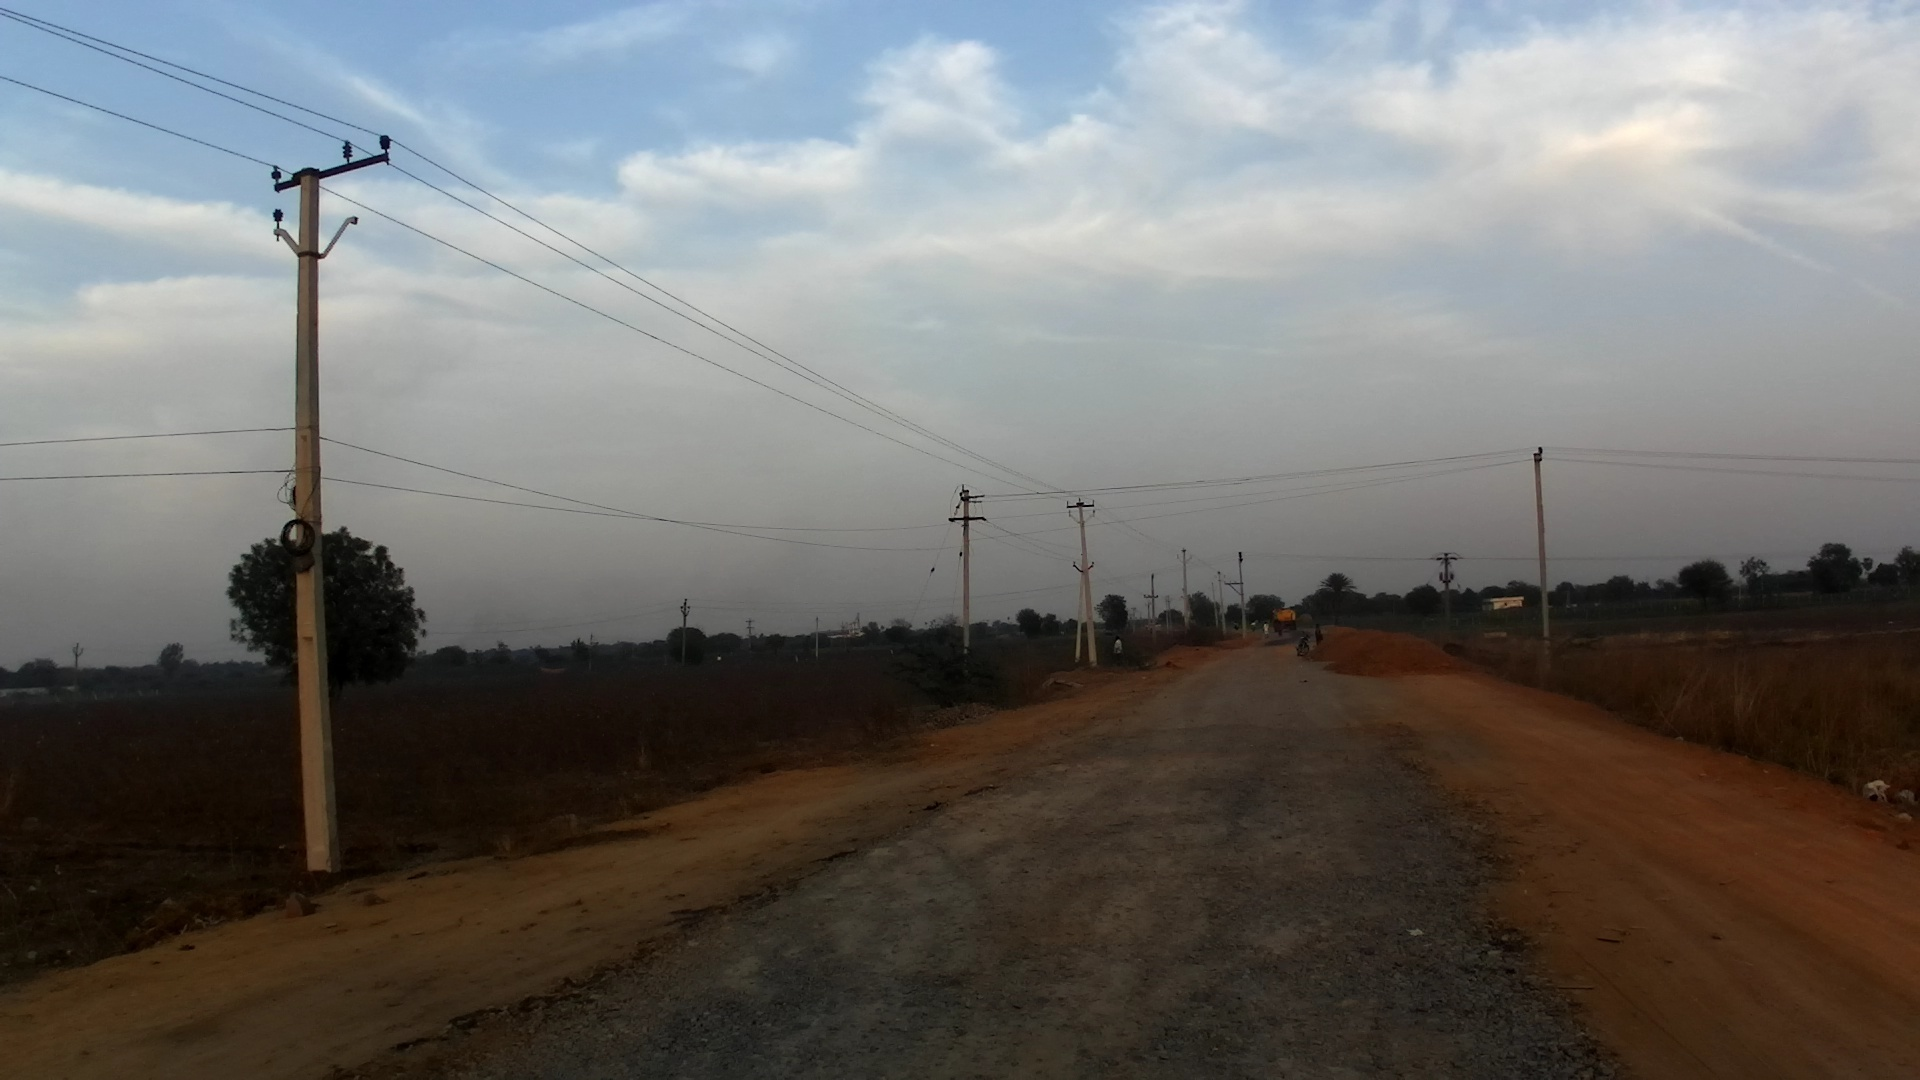motorcycle: (1294, 632, 1313, 664)
person: (1309, 624, 1322, 645), (1274, 621, 1284, 638), (1259, 622, 1267, 642)
truck: (1270, 605, 1301, 636)
